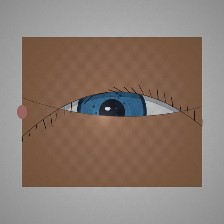pinguecula_lesion: (132, 99, 181, 138)
